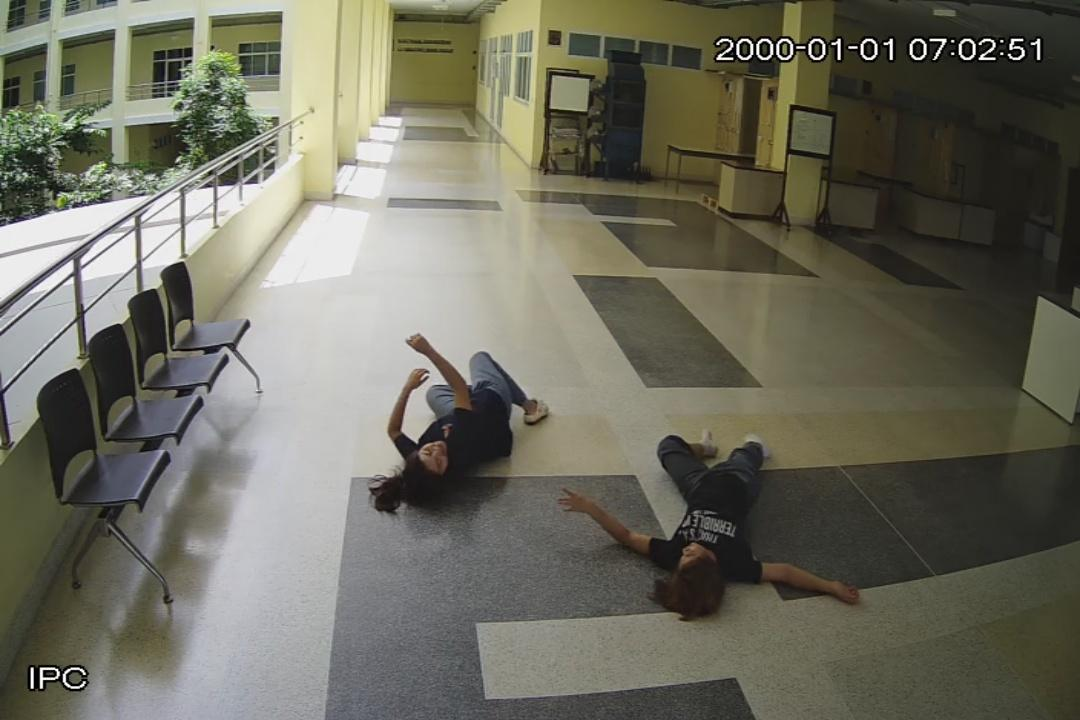fall: (559, 428, 860, 619), (391, 331, 547, 502)
